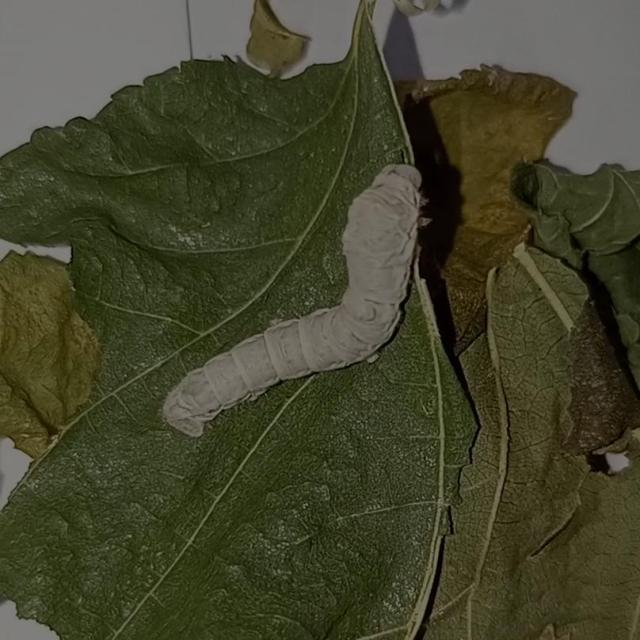Healthy: (151, 128, 468, 452)
